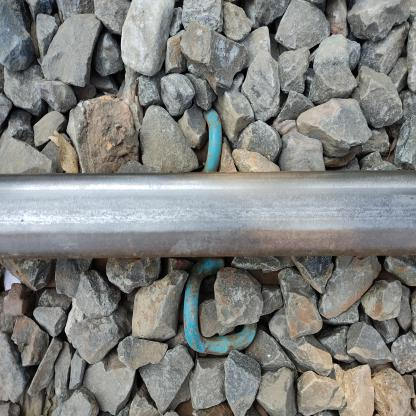Non Defective 1: (158, 83, 256, 196), (170, 249, 268, 361)
